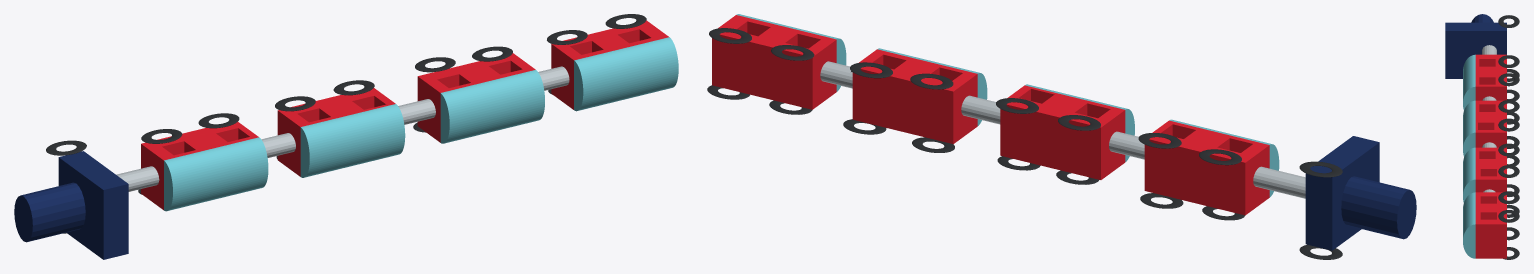
File: tinker.obj
The picture shows the model from 3 angles, left to right: view 1: azimuth 30°, elevation 25°; view 2: azimuth 150°, elevation 25°; view 3: azimuth 270°, elevation 25°; orthographic projection. The views are drawn at different scales.
Visible parts, largest first — view 1: group_0_7720667, group_0_15277357, group_0_1650274, group_0_2829873, group_0_12568524; view 2: group_0_15277357, group_0_1650274, group_0_2829873, group_0_12568524, group_0_7720667; view 3: group_0_15277357, group_0_7720667, group_0_1650274, group_0_2829873, group_0_12568524.
Boxes of the visible parts, bbox=[...] form: group_0_7720667: bbox=[164, 37, 678, 211]; group_0_15277357: bbox=[141, 20, 668, 210]; group_0_1650274: bbox=[14, 151, 128, 259]; group_0_2829873: bbox=[46, 14, 646, 233]; group_0_12568524: bbox=[116, 66, 569, 191]; group_0_15277357: bbox=[712, 15, 1269, 215]; group_0_1650274: bbox=[1305, 136, 1416, 250]; group_0_2829873: bbox=[707, 28, 1342, 259]; group_0_12568524: bbox=[820, 61, 1305, 198]; group_0_7720667: bbox=[736, 14, 1279, 197]; group_0_15277357: bbox=[1475, 54, 1506, 258]; group_0_7720667: bbox=[1463, 54, 1475, 258]; group_0_1650274: bbox=[1445, 14, 1506, 78]; group_0_2829873: bbox=[1498, 15, 1519, 259]; group_0_12568524: bbox=[1482, 45, 1496, 192].
Bounding box in the file's own units: 404 × 48 × 59.
